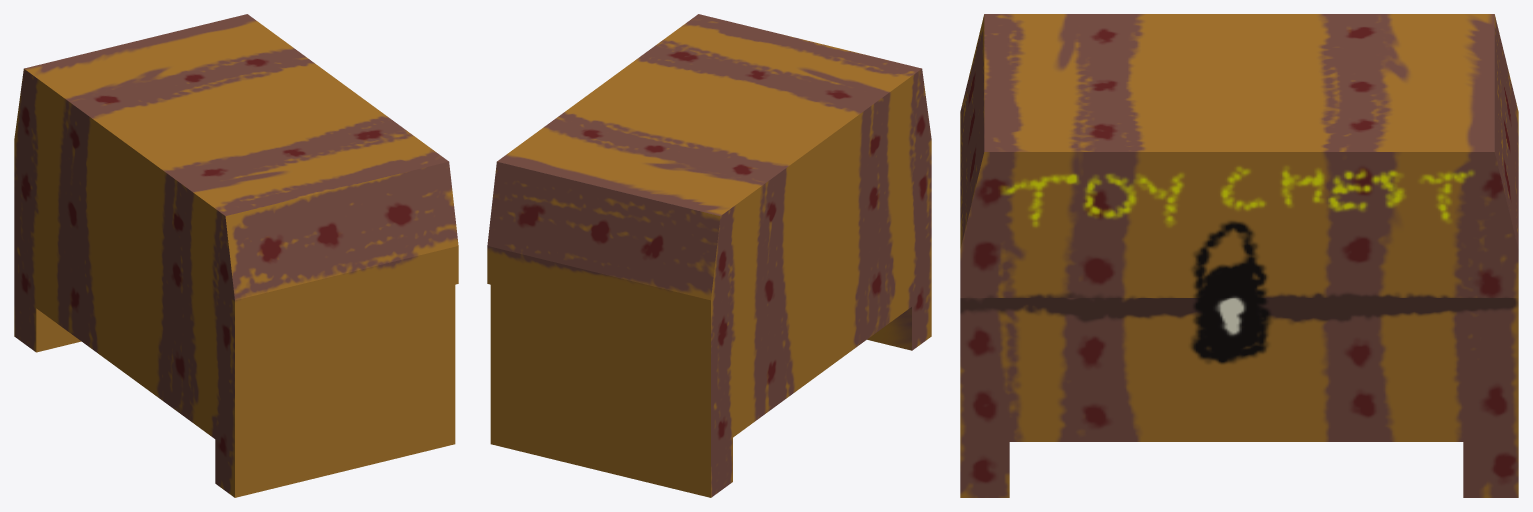
The model's file is Toy Chest.fbx.
3 renders of one model, left to right at view 1: azimuth 30°, elevation 25°; view 2: azimuth 150°, elevation 25°; view 3: azimuth 270°, elevation 25°, orthographic. The views are drawn at different scales.
Visible parts, largest first — view 1: Cube; view 2: Cube; view 3: Cube.
Part boxes in pixels (x1,y1,x2,y2): Cube: (14, 14, 458, 497); Cube: (487, 14, 931, 497); Cube: (960, 14, 1518, 497).
Bounding box in the file's own units: 203 × 238 × 347.
